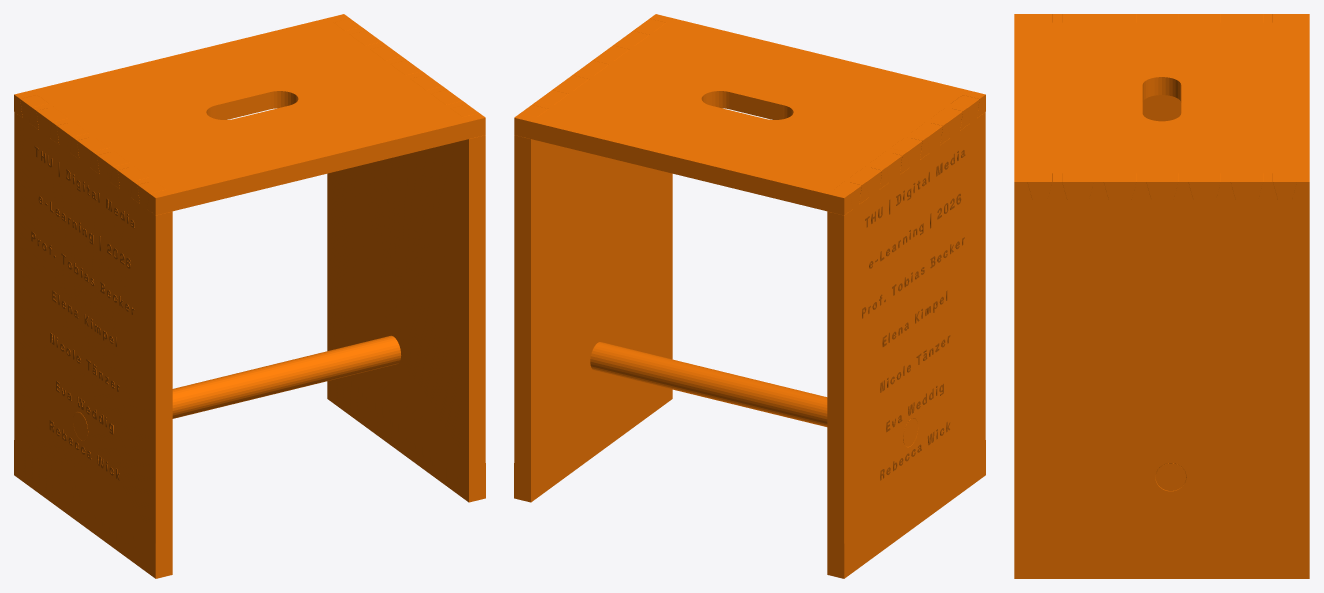
Rendered from Ulmer_Hocker04.glb.
3 views of the same model, side by side, from view 1: azimuth 30°, elevation 25°; view 2: azimuth 150°, elevation 25°; view 3: azimuth 270°, elevation 25° (orthographic). The views are drawn at different scales.
Parts seen in each view (by area): view 1: Seitenwand (×2), Sitzfläche, Fuß (×2), Stange, kjöq.006; view 2: Seitenwand (×2), Sitzfläche, Fuß (×2), Stange, kjöq.006; view 3: Seitenwand (×2), Sitzfläche, Fuß, Stange.
Boxes of the visible parts, x1,y1,x2,y2 form: Seitenwand (×2): [14, 18, 485, 550]; Sitzfläche: [14, 14, 485, 215]; Fuß (×2): [14, 377, 485, 578]; Stange: [73, 335, 401, 440]; kjöq.006: [31, 146, 134, 480]; Seitenwand (×2): [514, 18, 985, 550]; Sitzfläche: [514, 14, 985, 215]; Fuß (×2): [514, 383, 985, 578]; Stange: [590, 342, 917, 446]; kjöq.006: [862, 150, 965, 480]; Seitenwand (×2): [1014, 14, 1309, 541]; Sitzfläche: [1014, 14, 1309, 199]; Fuß: [1014, 542, 1309, 578]; Stange: [1155, 463, 1185, 490].
Bounding box in the file's own units: 0.3905 × 0.43 × 0.29.
